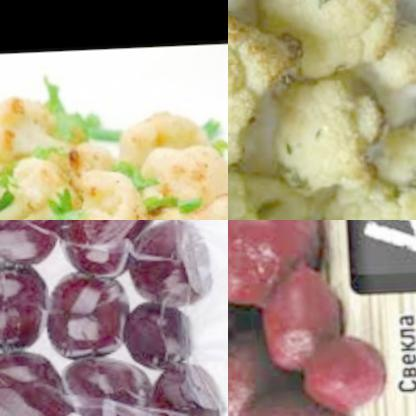beet: (250, 257, 343, 373), (121, 220, 228, 316), (228, 220, 329, 312), (45, 269, 136, 371), (51, 220, 162, 288), (57, 344, 157, 416), (296, 339, 388, 416), (0, 254, 64, 361), (119, 303, 199, 371), (228, 377, 353, 416), (0, 353, 75, 416), (228, 331, 281, 416), (145, 366, 228, 416), (0, 220, 66, 275)
cayliflower: (0, 85, 228, 220), (269, 69, 392, 196), (228, 4, 310, 173), (246, 0, 402, 83), (303, 165, 416, 220), (354, 14, 416, 111), (228, 159, 309, 220), (362, 109, 416, 198)
